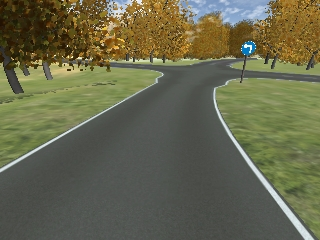left: (241, 41, 253, 56)
